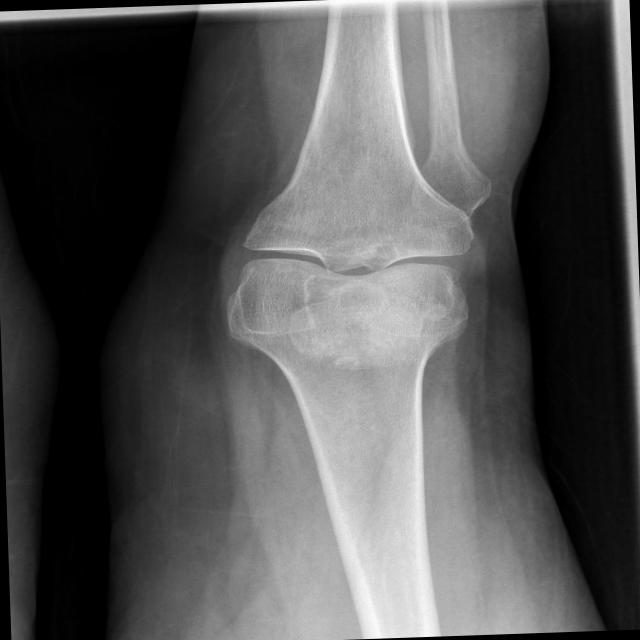Knee: (220, 185, 478, 368)
